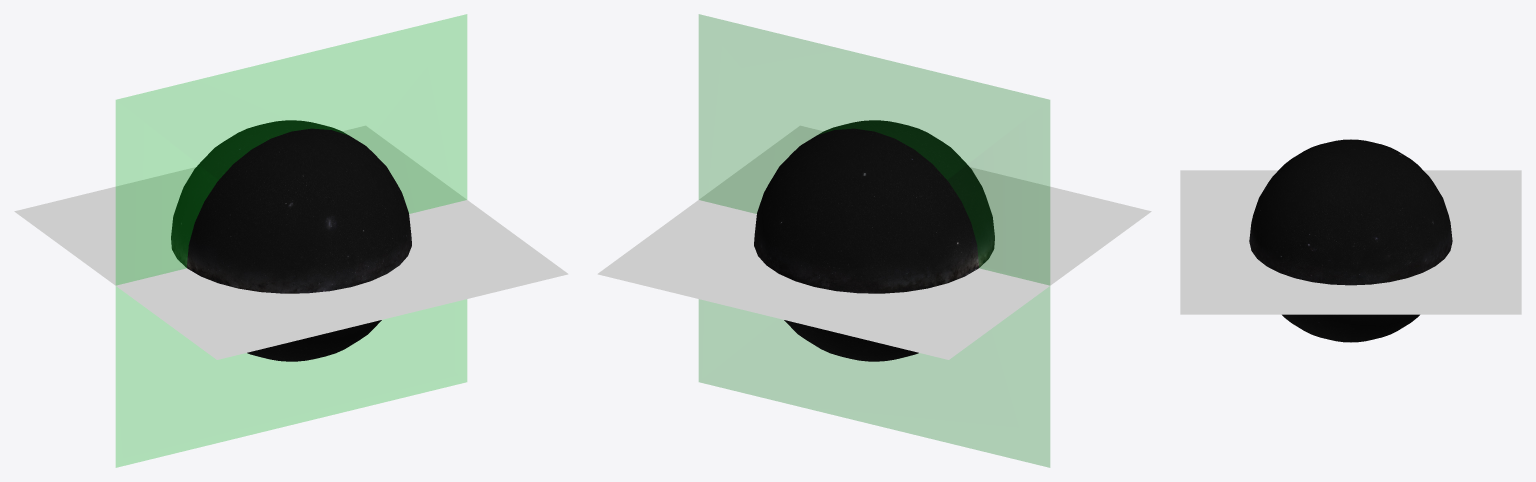
The model's file is portal-fairedelespace.glb.
3 renders of one model, left to right at view 1: azimuth 30°, elevation 25°; view 2: azimuth 150°, elevation 25°; view 3: azimuth 270°, elevation 25°, orthographic. The views are drawn at different scales.
Visible parts, largest first — view 1: clip, skyOut, showIn, hideIn, skyIn; view 2: clip, skyIn, hideIn, showIn, skyOut; view 3: hideIn, showIn, skyOut, skyIn.
Boxes of the visible parts, x1=… form: clip: x1=116, y1=14, x2=466, y2=467; skyOut: x1=187, y1=128, x2=411, y2=361; showIn: x1=116, y1=200, x2=568, y2=359; hideIn: x1=14, y1=125, x2=466, y2=285; skyIn: x1=171, y1=120, x2=348, y2=267; clip: x1=699, y1=14, x2=1049, y2=467; skyIn: x1=754, y1=128, x2=978, y2=361; hideIn: x1=597, y1=200, x2=1049, y2=359; showIn: x1=699, y1=125, x2=1151, y2=285; skyOut: x1=817, y1=120, x2=994, y2=267; hideIn: x1=1350, y1=170, x2=1521, y2=314; showIn: x1=1180, y1=170, x2=1350, y2=314; skyOut: x1=1249, y1=139, x2=1350, y2=342; skyIn: x1=1351, y1=139, x2=1452, y2=342.
Bounding box in the file's own units: 200 × 200 × 200.
11 materials, 3 textured.
